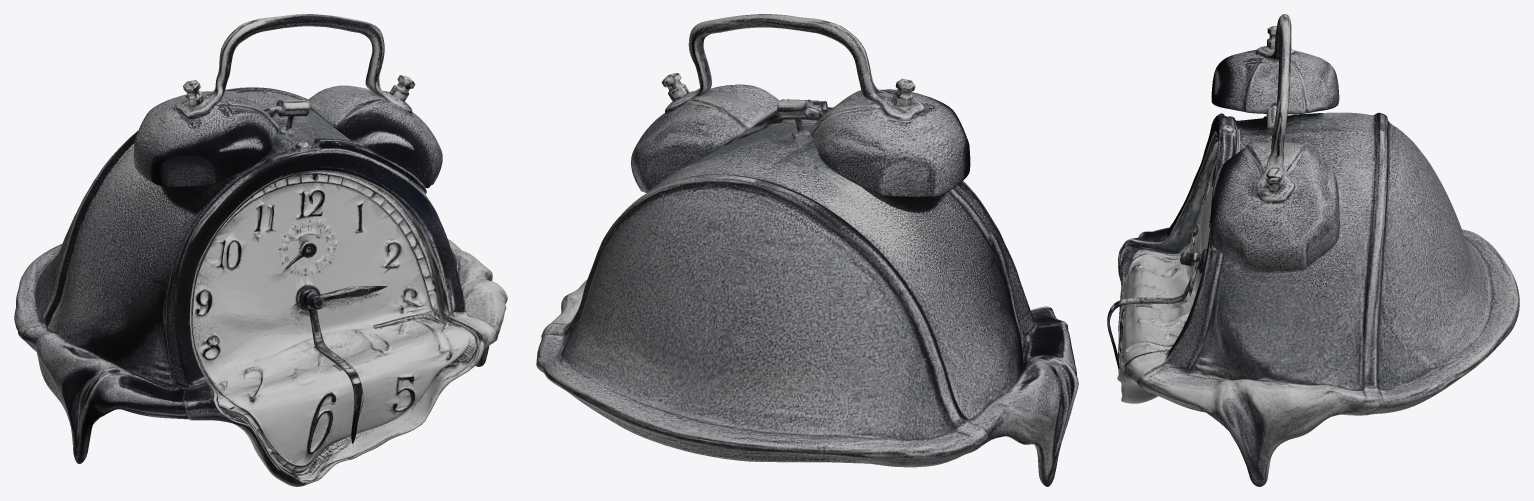
The model's file is clock3.fbx.
The picture shows the model from 3 angles, left to right: view 1: azimuth 30°, elevation 25°; view 2: azimuth 150°, elevation 25°; view 3: azimuth 270°, elevation 25°; orthographic projection. The views are drawn at different scales.
Visible parts, largest first — view 1: tripo_node_af4f7b1c; view 2: tripo_node_af4f7b1c; view 3: tripo_node_af4f7b1c.
Part boxes in pixels (x1,y1,x2,y2): tripo_node_af4f7b1c: (14,14,507,486); tripo_node_af4f7b1c: (536,14,1078,486); tripo_node_af4f7b1c: (1107,14,1519,486).
Bounding box in the file's own units: 98.02 × 85.73 × 86.92.
Materials: 1 (1 with a texture image).
